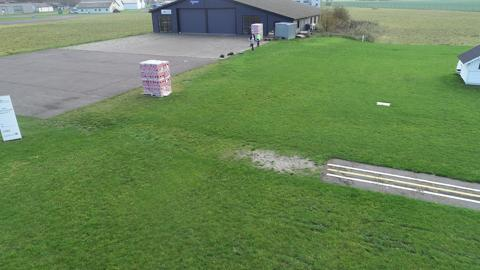RockwoolPallet: (140, 60, 173, 99)
